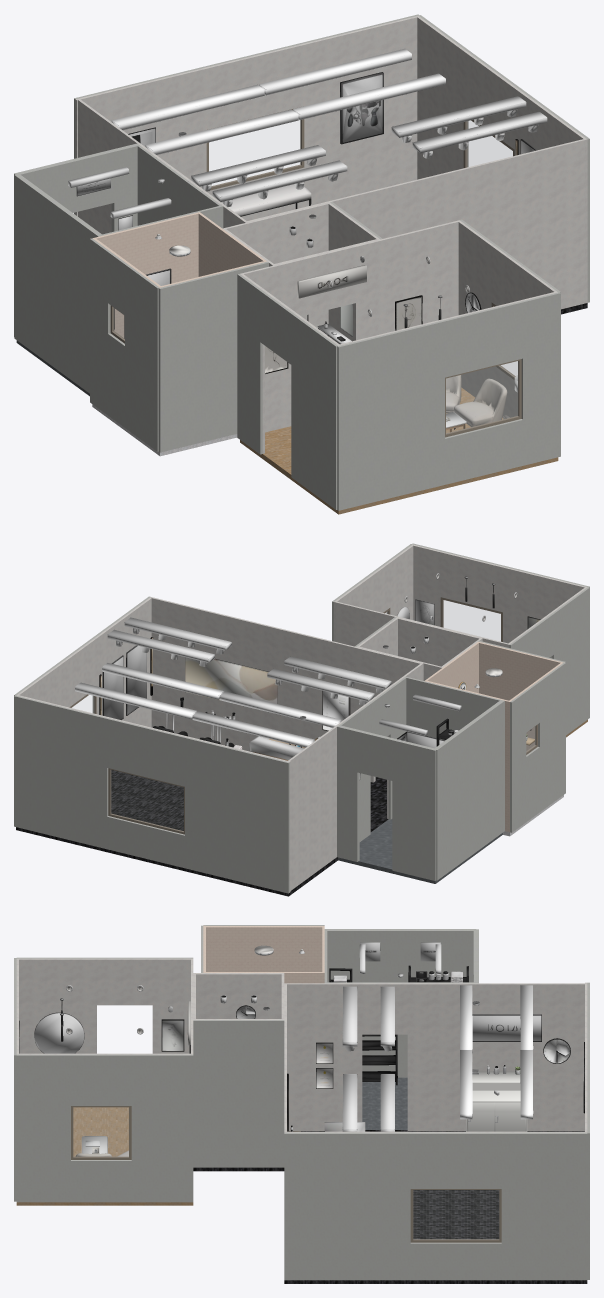
File: scene_named.glb
3 renders of one model, top to bottom at view 1: azimuth 30°, elevation 25°; view 2: azimuth 150°, elevation 25°; view 3: azimuth 270°, elevation 25°, orthographic. The views are drawn at different scales.
Parts seen in each view (by area): view 1: south_wall_exterior_waiting_area/south_wall_exterior_waiting, north_wall_salon_floor/north_wall_salon_floor/geometry_0, south_wall_salon_floor/south_wall_salon_floor/geometry_0, north_wall_waiting_area/north_wall_waiting_area/geometry_0, west_wall_exterior_waiting_area/west_wall_exterior_waiting_a, south_wall_exterior_bathroom/south_wall_exterior_bathroom/ge, west_wall_exterior_storage_room/west_wall_exterior_storage_r, west_wall_exterior_bathroom/west_wall_exterior_bathroom/geom, east_wall_salon_floor/east_wall_salon_floor/geometry_0, east_wall_waiting_area/east_wall_waiting_area/geometry_0, north_wall_storage_room/north_wall_storage_room/geometry_0, north_wall_bathroom/north_wall_bathroom/geometry_0 (+25 smaller); view 2: north_wall_exterior_salon_floor/north_wall_exterior_salon_fl, south_wall_salon_floor/south_wall_salon_floor/geometry_0, north_wall_exterior_storage_room/north_wall_exterior_storage, west_wall_exterior_storage_room/west_wall_exterior_storage_r, south_wall_waiting_area/south_wall_waiting_area/geometry_0, west_wall_exterior_bathroom/west_wall_exterior_bathroom/geom, west_wall_salon_floor/west_wall_salon_floor/geometry_0, floor_salon_floor, west_wall_exterior_waiting_area/west_wall_exterior_waiting_a, east_wall_salon_floor/east_wall_salon_floor/geometry_0, window_3_salon_floor/window_3_salon_floor/glass, south_wall_storage_room/south_wall_storage_room/geometry_0 (+25 smaller); view 3: east_wall_exterior_salon_floor/east_wall_exterior_salon_floo, west_wall_salon_floor/west_wall_salon_floor/geometry_0, east_wall_exterior_waiting_area/east_wall_exterior_waiting_a, east_wall_exterior_vestibule/east_wall_exterior_vestibule/ge, west_wall_waiting_area/west_wall_waiting_area/geometry_0, west_wall_storage_room/west_wall_storage_room/geometry_0, floor_salon_floor, west_wall_bathroom/west_wall_bathroom/geometry_0, window_5_salon_floor/window_5_salon_floor/glass, west_wall_vestibule/west_wall_vestibule/geometry_0, floor_waiting_area, window_2_waiting_area/window_2_waiting_area/glass (+24 smaller).
Part boxes in pixels (box(x1,y1,x2,y2)): south_wall_exterior_waiting_area/south_wall_exterior_waiting: box(337, 292, 560, 510); north_wall_salon_floor/north_wall_salon_floor/geometry_0: box(75, 16, 417, 220); south_wall_salon_floor/south_wall_salon_floor/geometry_0: box(244, 139, 584, 320); north_wall_waiting_area/north_wall_waiting_area/geometry_0: box(242, 221, 458, 432); west_wall_exterior_waiting_area/west_wall_exterior_waiting_a: box(237, 274, 337, 509); south_wall_exterior_bathroom/south_wall_exterior_bathroom/ge: box(158, 261, 268, 452); west_wall_exterior_storage_room/west_wall_exterior_storage_r: box(14, 174, 100, 393); west_wall_exterior_bathroom/west_wall_exterior_bathroom/geom: box(90, 238, 159, 451); east_wall_salon_floor/east_wall_salon_floor/geometry_0: box(416, 15, 587, 303); east_wall_waiting_area/east_wall_waiting_area/geometry_0: box(457, 220, 557, 417); north_wall_storage_room/north_wall_storage_room/geometry_0: box(15, 145, 139, 231); north_wall_bathroom/north_wall_bathroom/geometry_0: box(93, 212, 200, 337); north_wall_exterior_salon_floor/north_wall_exterior_salon_fl: box(14, 695, 289, 893); south_wall_salon_floor/south_wall_salon_floor/geometry_0: box(151, 597, 423, 782); north_wall_exterior_storage_room/north_wall_exterior_storage: box(337, 726, 436, 880); west_wall_exterior_storage_room/west_wall_exterior_storage_r: box(436, 700, 504, 880); south_wall_waiting_area/south_wall_waiting_area/geometry_0: box(413, 545, 585, 643); west_wall_exterior_bathroom/west_wall_exterior_bathroom/geom: box(510, 662, 565, 832); west_wall_salon_floor/west_wall_salon_floor/geometry_0: box(287, 663, 422, 890); floor_salon_floor: box(16, 770, 388, 896); west_wall_exterior_waiting_area/west_wall_exterior_waiting_a: box(509, 587, 589, 735); east_wall_salon_floor/east_wall_salon_floor/geometry_0: box(16, 597, 152, 727); window_3_salon_floor/window_3_salon_floor/glass: box(111, 770, 183, 831); south_wall_storage_room/south_wall_storage_room/geometry_0: box(405, 677, 502, 740); east_wall_exterior_salon_floor/east_wall_exterior_salon_floo: box(284, 1132, 587, 1280); west_wall_salon_floor/west_wall_salon_floor/geometry_0: box(284, 983, 587, 1130); east_wall_exterior_waiting_area/east_wall_exterior_waiting_a: box(16, 1054, 193, 1202); east_wall_exterior_vestibule/east_wall_exterior_vestibule/ge: box(193, 1020, 284, 1167); west_wall_waiting_area/west_wall_waiting_area/geometry_0: box(16, 958, 193, 1053); west_wall_storage_room/west_wall_storage_room/geometry_0: box(325, 930, 474, 1077); floor_salon_floor: box(284, 1130, 587, 1283); west_wall_bathroom/west_wall_bathroom/geometry_0: box(206, 926, 323, 971); window_5_salon_floor/window_5_salon_floor/glass: box(413, 1190, 498, 1239); west_wall_vestibule/west_wall_vestibule/geometry_0: box(196, 973, 281, 1018); floor_waiting_area: box(16, 1107, 193, 1205); window_2_waiting_area/window_2_waiting_area/glass: box(73, 1107, 128, 1156).
Bounding box in the file's own units: 9.78 × 3.3 × 11.4.
Materials: 145 (132 with a texture image).
